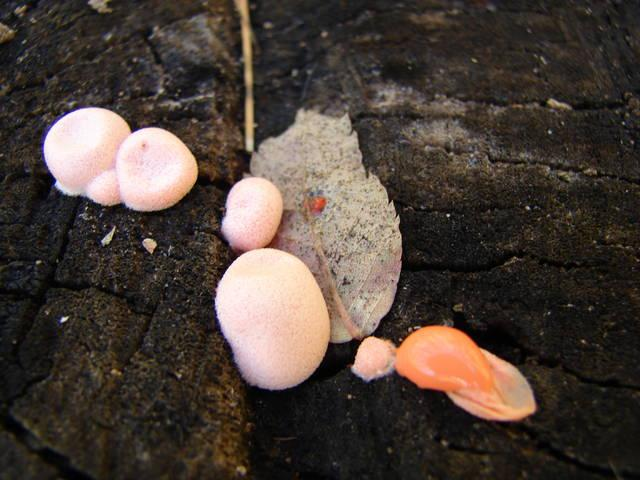poisonous_mushroom: (247, 106, 403, 343), (213, 246, 331, 391), (42, 104, 199, 212), (393, 323, 538, 422), (41, 105, 130, 197), (114, 125, 198, 212), (219, 175, 283, 251), (350, 334, 397, 382)
